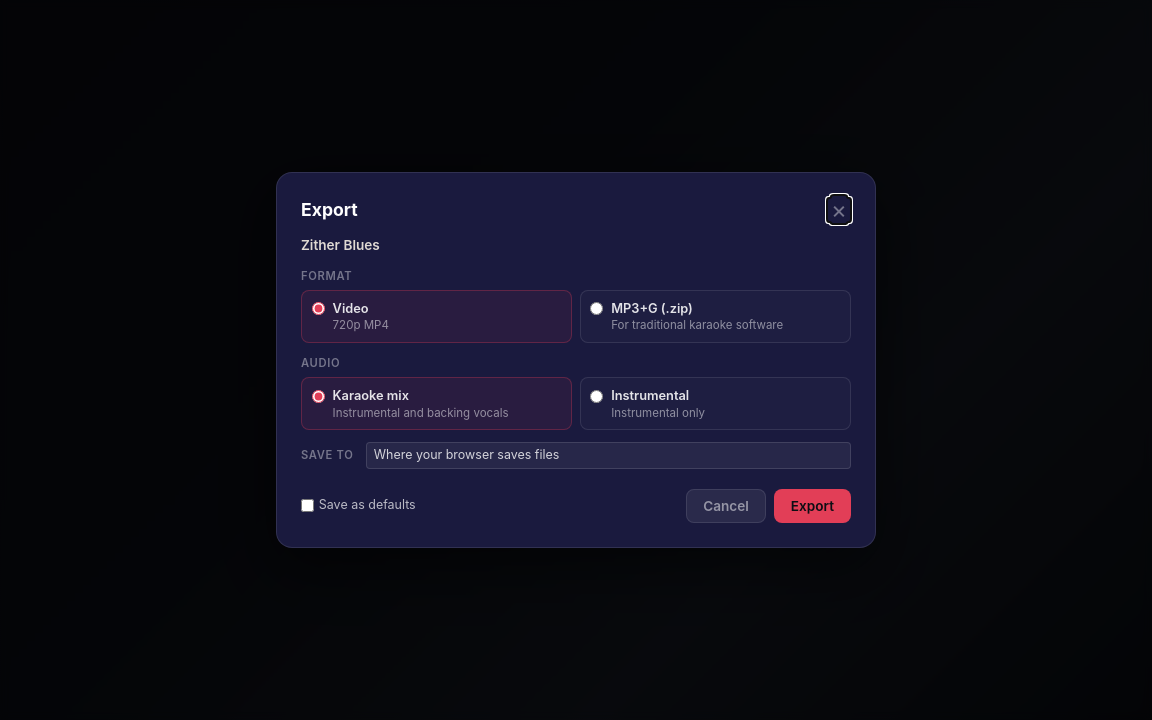
Test: video format › shows no progress line until the session has opened
The width and height of the screenshot is (1152, 720).
Click the button "Export" at (812, 506), box x1=774 y1=489 x2=851 y2=523
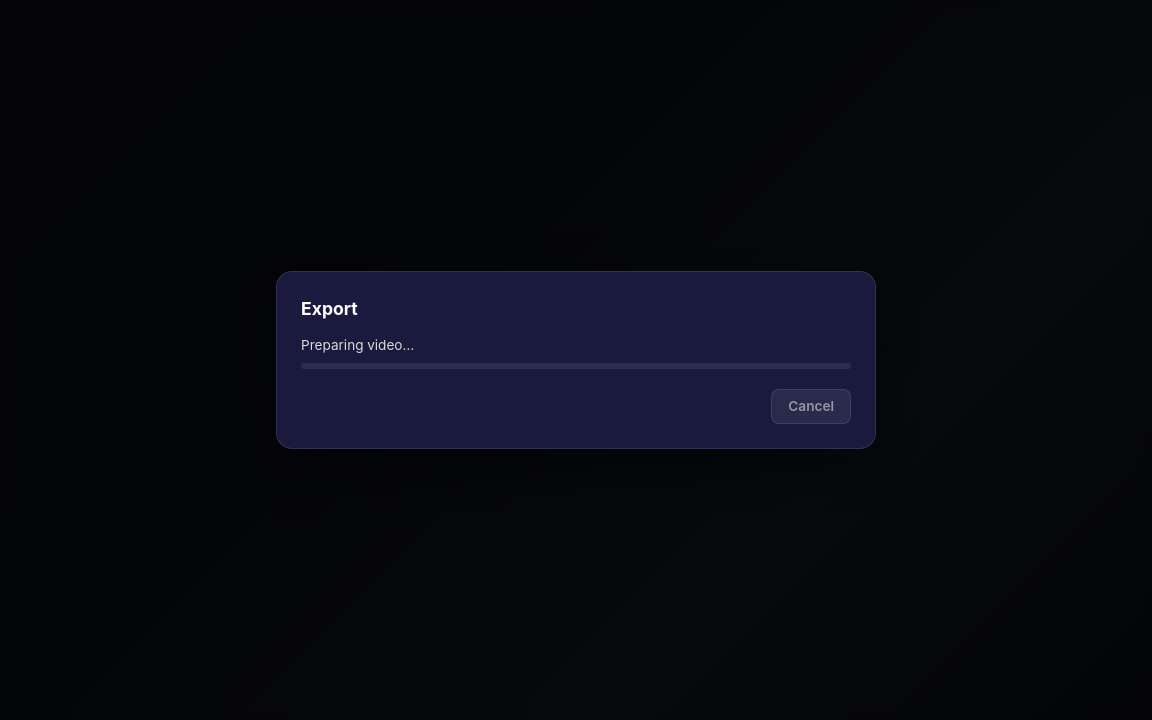
Check: the text with class "export-progress__line" reads "Preparing video…", box x1=301 y1=337 x2=414 y2=353
